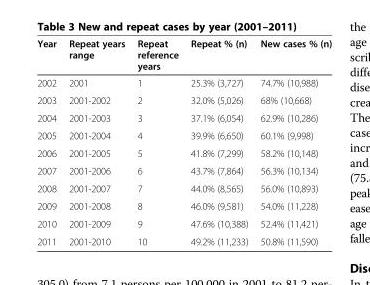table: (36, 37, 331, 246)
table column: (253, 37, 331, 246), (183, 37, 253, 246), (62, 37, 130, 246), (130, 37, 183, 246), (36, 37, 62, 246)
table column header: (36, 37, 331, 74)
table row: (36, 37, 331, 74), (36, 108, 331, 126), (36, 126, 331, 144), (36, 161, 331, 179), (36, 196, 331, 214), (36, 214, 331, 232), (36, 74, 331, 91), (36, 91, 331, 108), (36, 144, 331, 161), (36, 179, 331, 196), (36, 232, 331, 246)
